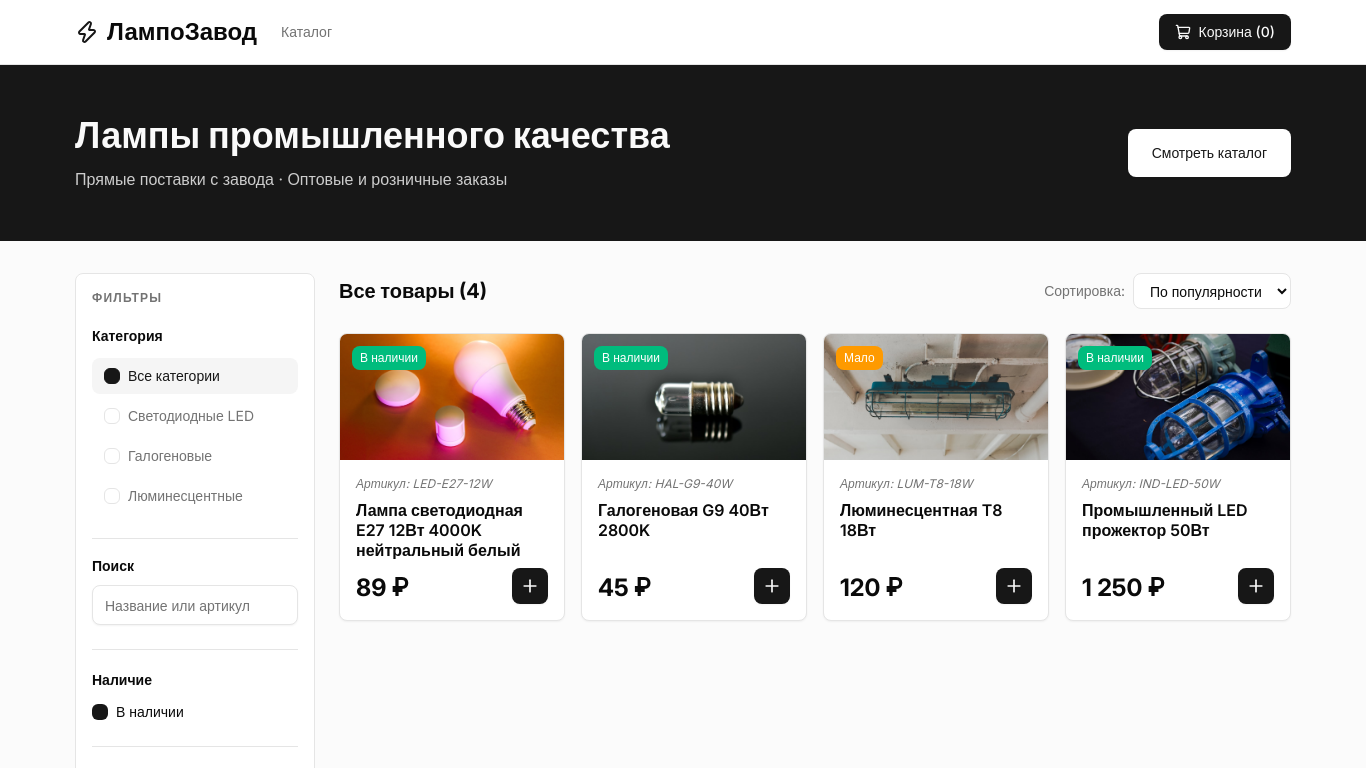
Scenario: filters catalog products by category and search
Click the button named "Добавить Лампа светодиодная E27 12Вт 4000K нейтральный белый" at x=530, y=586, box x1=512 y1=568 x2=548 y2=604
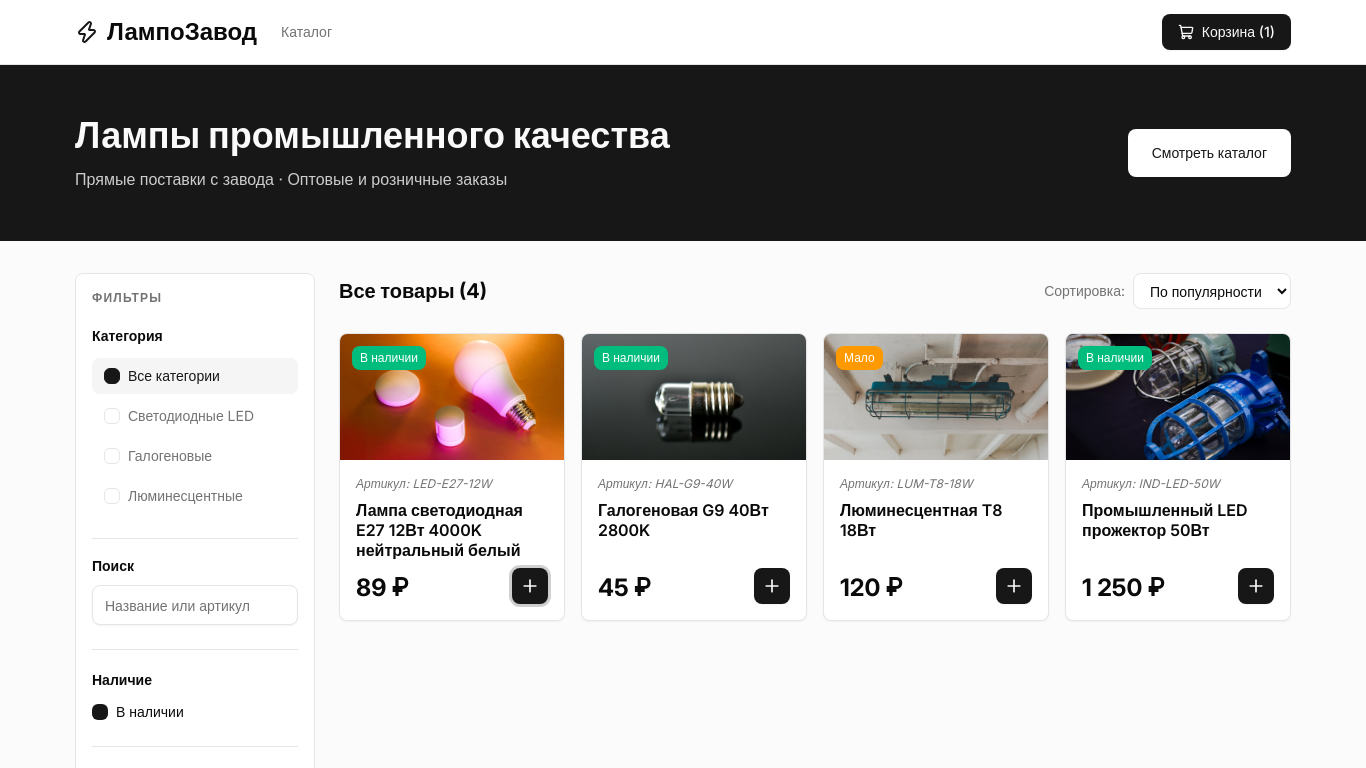
Now the link "Корзина (1)" is shown, box x1=1162 y1=14 x2=1291 y2=50
Click the button "Галогеновые" at x=195, y=456, box x1=92 y1=438 x2=298 y2=474
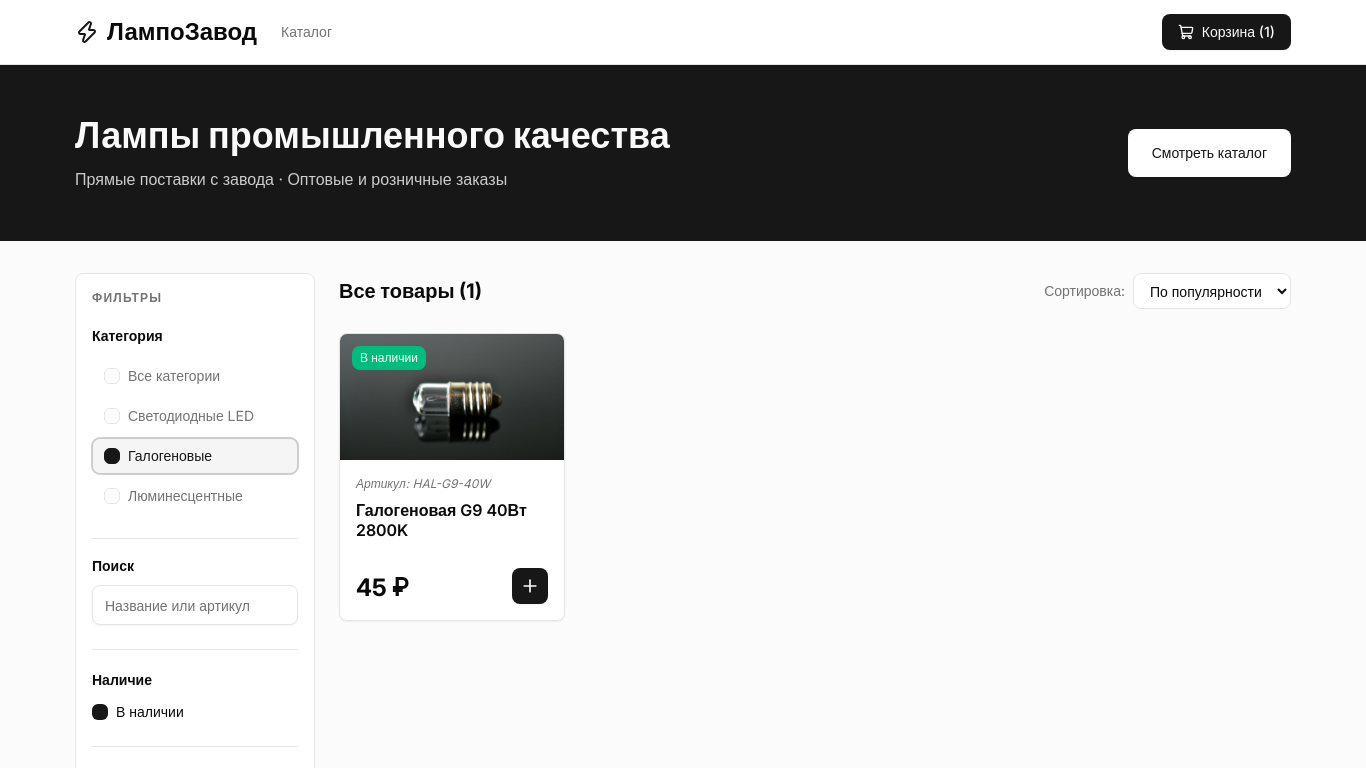
Expected: the link "Галогеновая G9 40Вт 2800K" is shown, x1=356 y1=500 x2=548 y2=540
Now the link "Лампа светодиодная E27 12Вт 4000K нейтральный белый" is gone
Type "missing" into the field labelled "Поиск" at x=195, y=605, box x1=92 y1=585 x2=298 y2=625
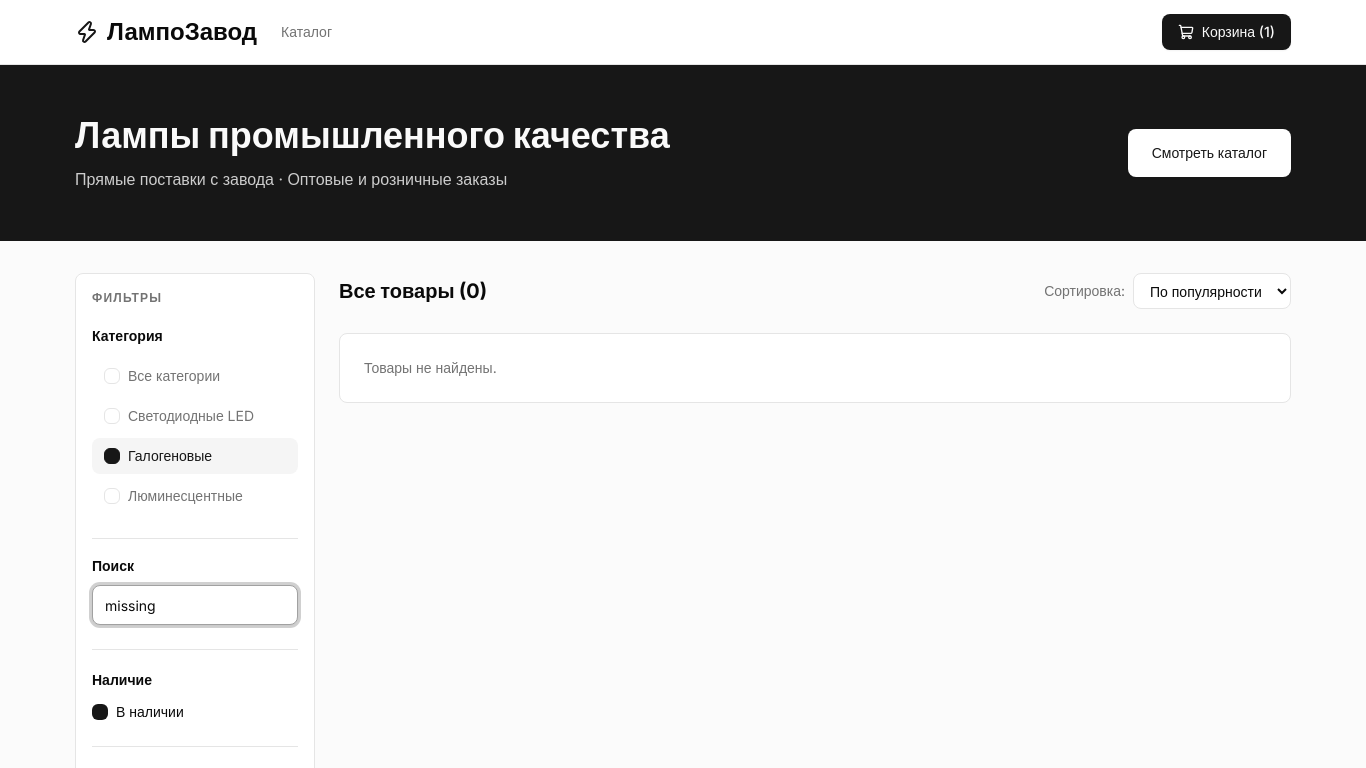
Now the link "Галогеновая G9 40Вт 2800K" is gone
